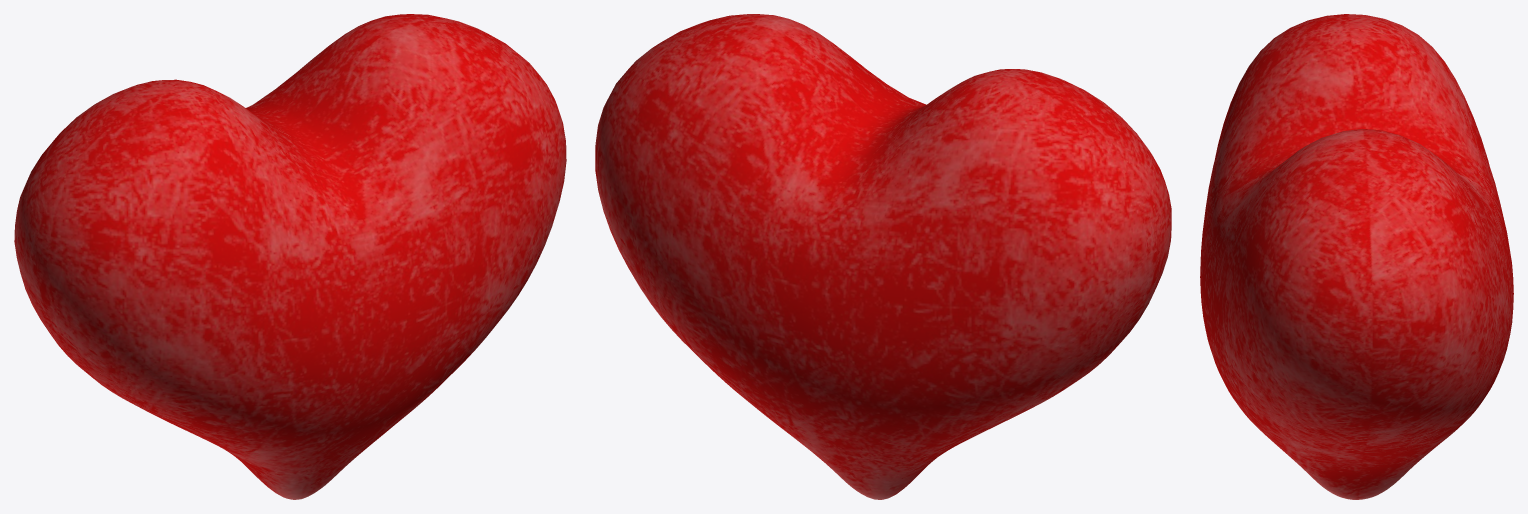
Rendered from heart.glb.
The picture shows the model from 3 angles, left to right: view 1: azimuth 30°, elevation 25°; view 2: azimuth 150°, elevation 25°; view 3: azimuth 270°, elevation 25°; orthographic projection. The views are drawn at different scales.
Parts seen in each view (by area): view 1: Object_2.004; view 2: Object_2.004; view 3: Object_2.004.
Boxes of the visible parts, left/top/right/bottom form: Object_2.004: left=14, top=14, right=566, bottom=499; Object_2.004: left=595, top=14, right=1171, bottom=499; Object_2.004: left=1200, top=14, right=1513, bottom=499.
Bounding box in the file's own units: 6.83 × 5.45 × 3.72.
1 material, 1 textured.
